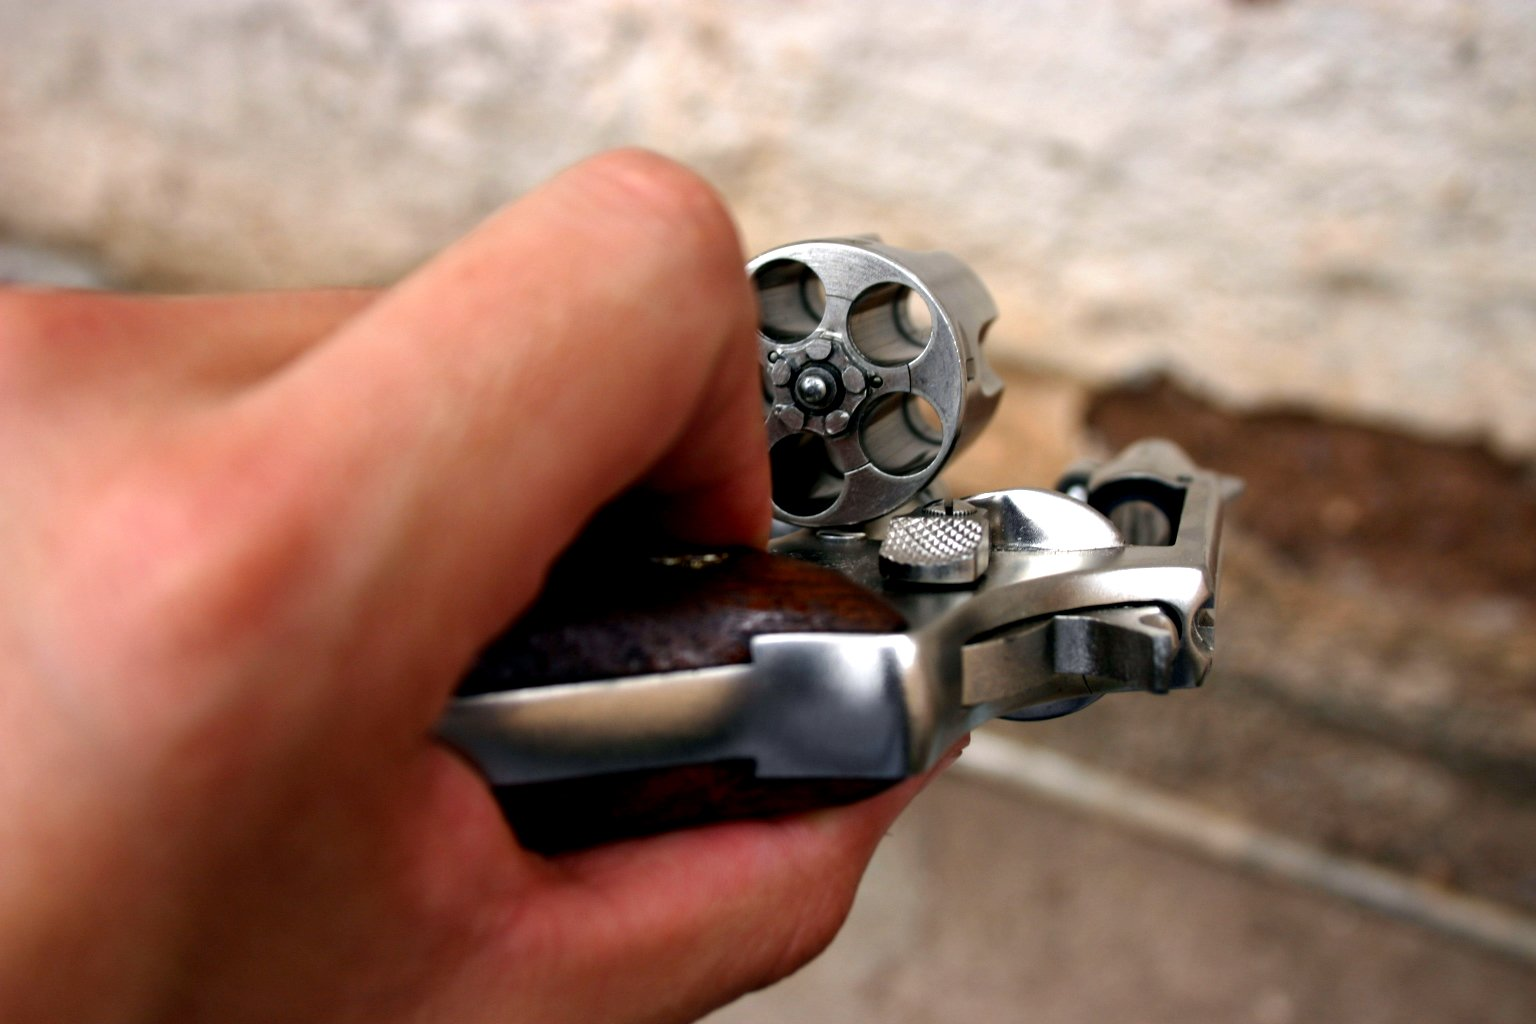gun: (414, 231, 1250, 867)
